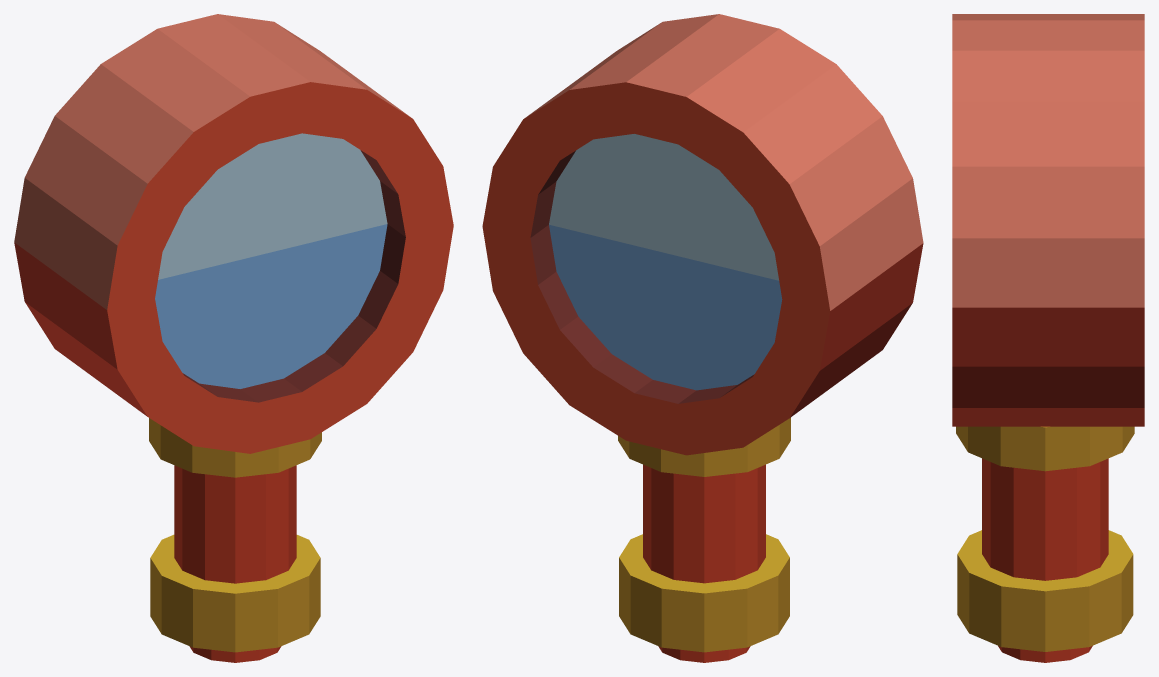
File: 3DIcon_Codex.FBX
3 views of the same model, side by side, from view 1: azimuth 30°, elevation 25°; view 2: azimuth 150°, elevation 25°; view 3: azimuth 270°, elevation 25° (orthographic). The views are drawn at different scales.
Visible parts, largest first — view 1: CodexIcon; view 2: CodexIcon; view 3: CodexIcon.
Part boxes in pixels (bbox=[...]): CodexIcon: bbox=[14, 14, 453, 662]; CodexIcon: bbox=[482, 14, 923, 662]; CodexIcon: bbox=[952, 14, 1144, 662].
Bounding box in the file's own units: 50 × 80.78 × 23.22.
